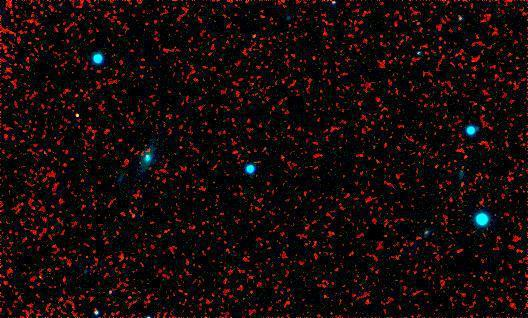star: (65, 103, 95, 133)
